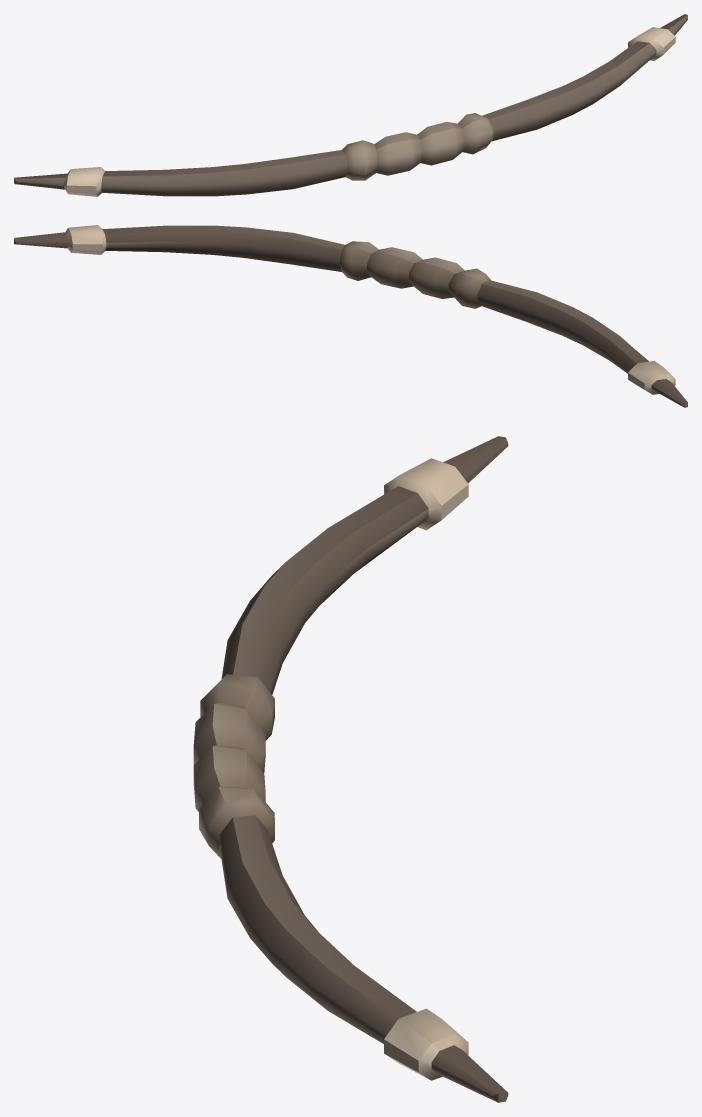
Rendered from bow_A.glb.
3 views of the same model, one above another, from view 1: azimuth 30°, elevation 25°; view 2: azimuth 150°, elevation 25°; view 3: azimuth 270°, elevation 25° (orthographic). The views are drawn at different scales.
Visible parts, largest first — view 1: bow_A; view 2: bow_A; view 3: bow_A.
Boxes of the visible parts, x1,y1,x2,y2 form: bow_A: (14,14,687,196); bow_A: (14,225,687,407); bow_A: (193,436,508,1102).
Bounding box in the file's own units: 1.96 × 0.0916 × 0.3958.
Materials: 1 (1 with a texture image).
